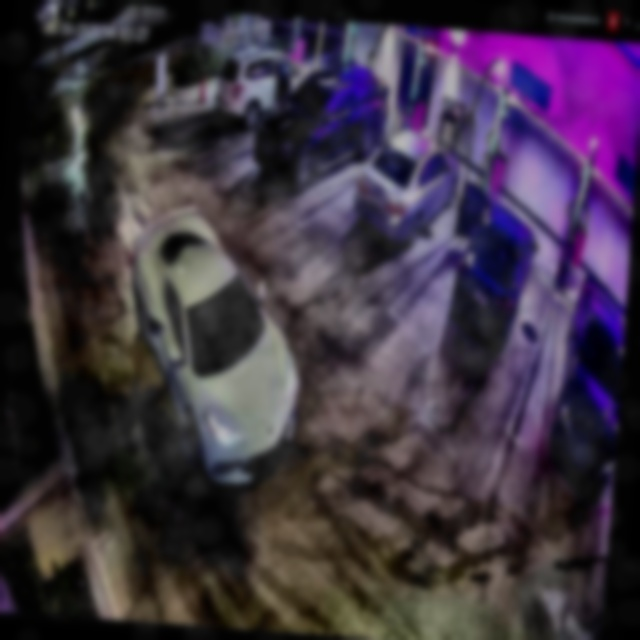Car: (117, 199, 313, 492), (252, 59, 389, 195), (448, 186, 543, 354), (349, 125, 463, 246)
